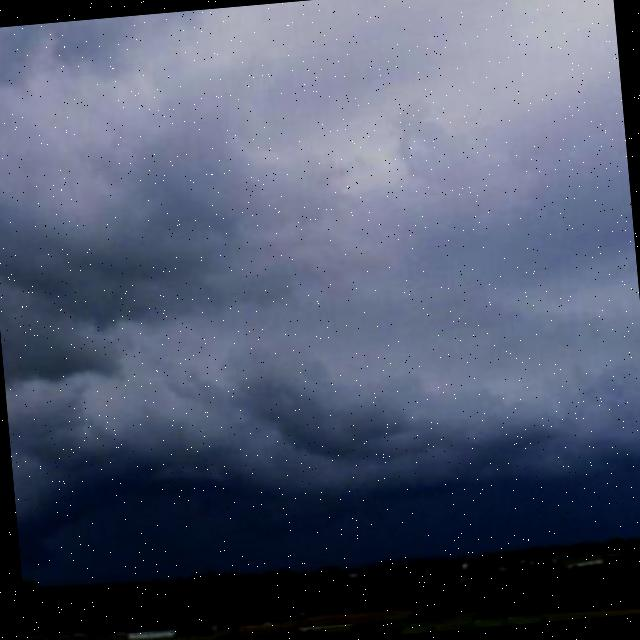Sc: (1, 16, 640, 553)
